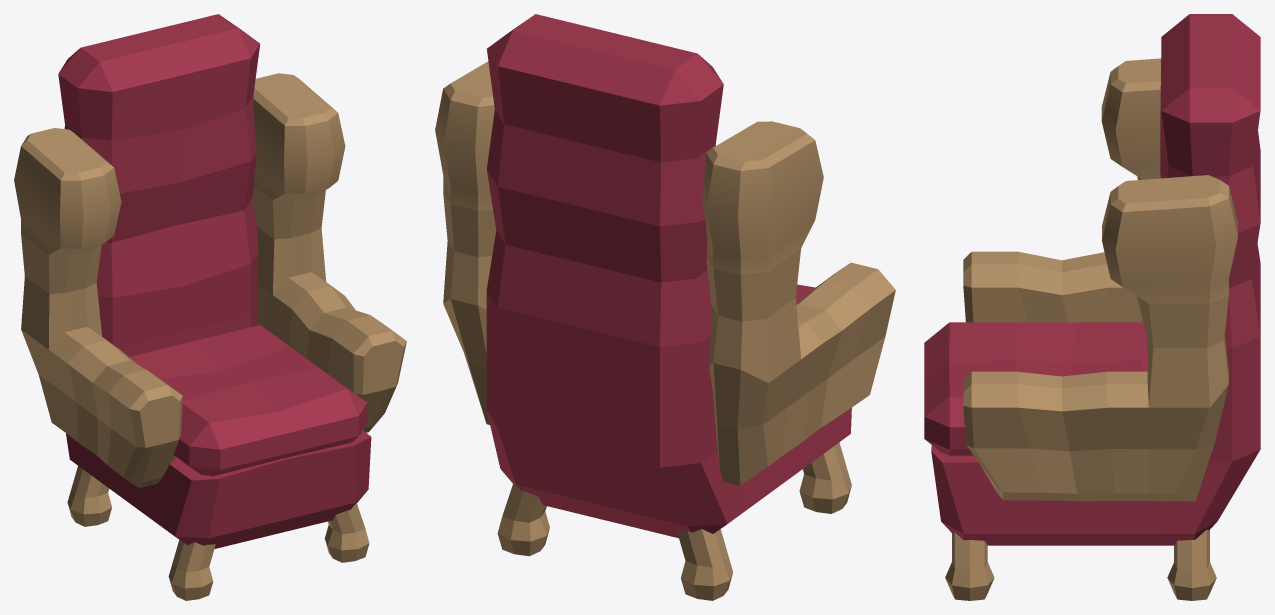
File: mod_armchair.fbx
The picture shows the model from 3 angles, left to right: view 1: azimuth 30°, elevation 25°; view 2: azimuth 150°, elevation 25°; view 3: azimuth 270°, elevation 25°; orthographic projection. The views are drawn at different scales.
Parts seen in each view (by area): view 1: mod_armchair; view 2: mod_armchair; view 3: mod_armchair.
Boxes of the visible parts, x1,y1,x2,y2 form: mod_armchair: (14,14,406,600); mod_armchair: (435,14,895,600); mod_armchair: (924,14,1260,600).
Size of the model in its own units: 73.62 by 112 by 68.32.
